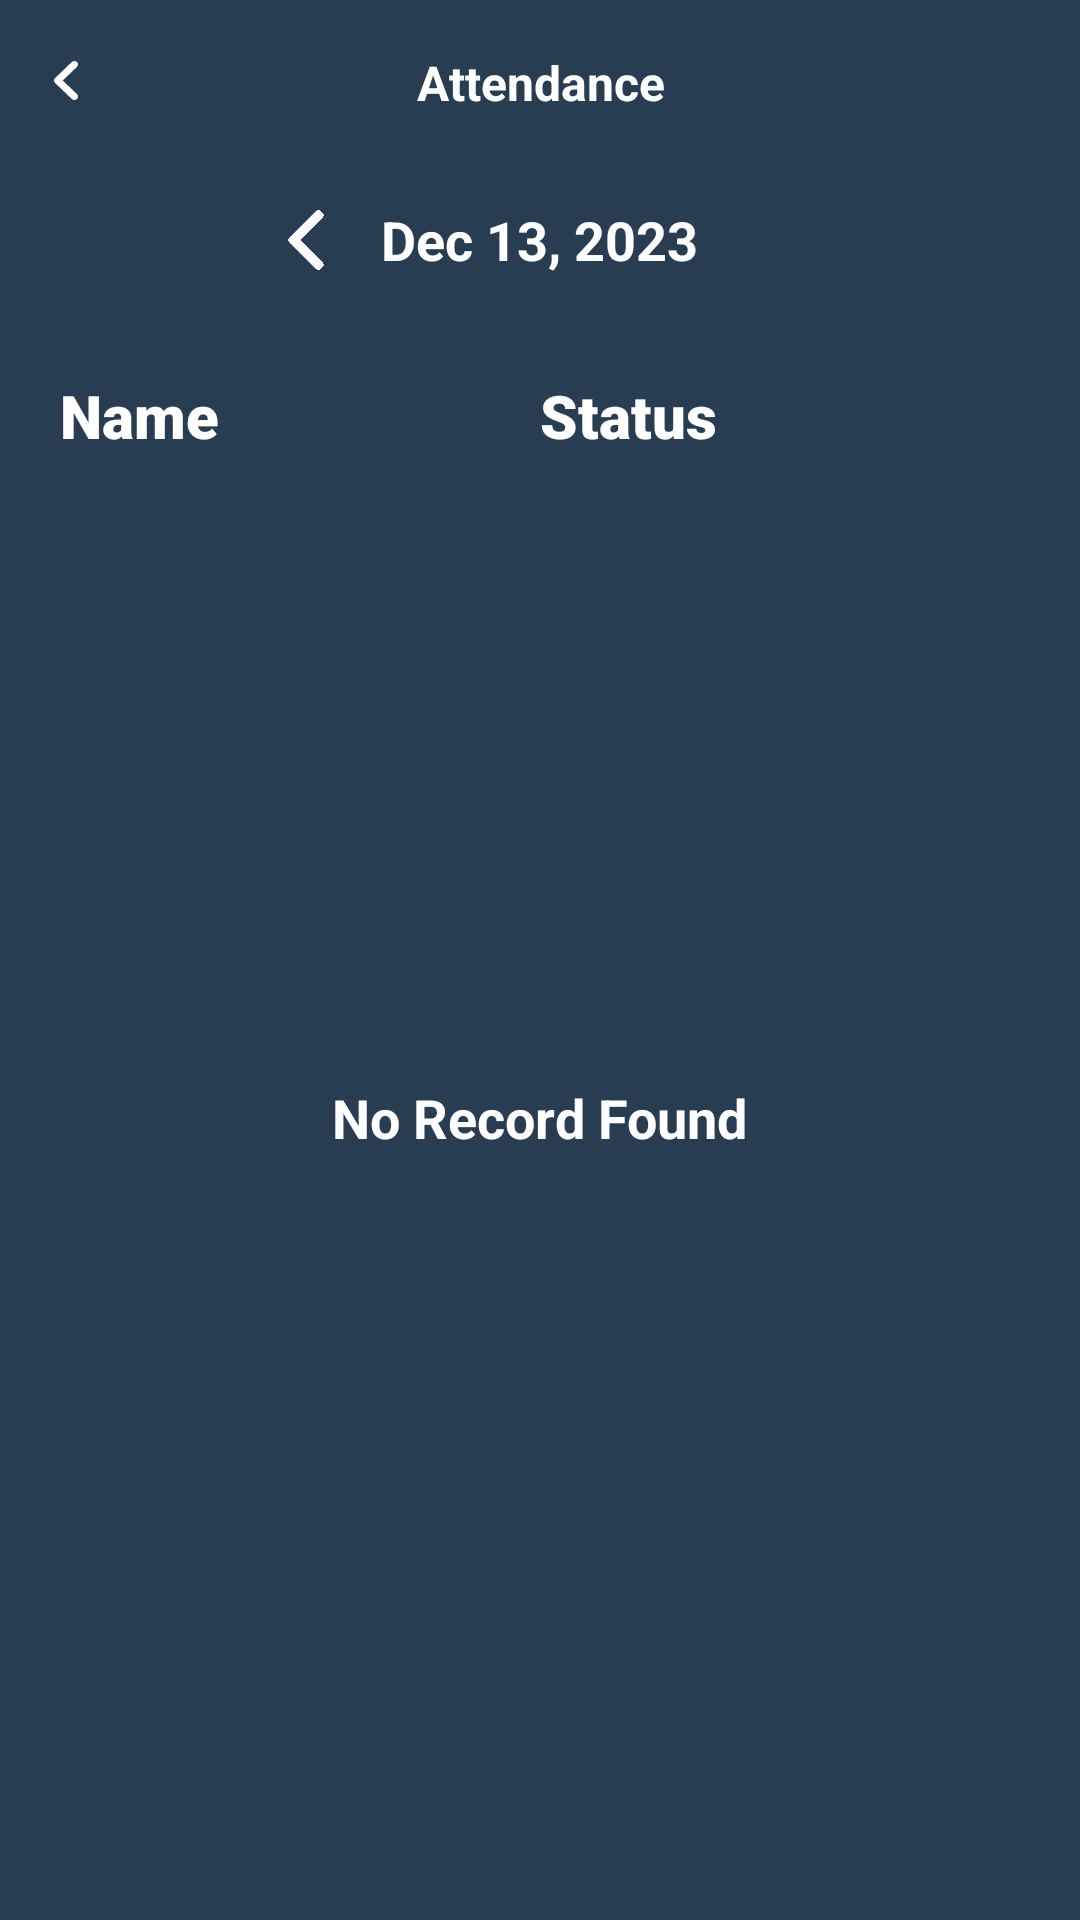

Screen size 1080 × 1920. Icon name, then its box in pixels as box(x1, y1, x2, y2):
back: box(54, 61, 78, 100)
left: box(288, 210, 324, 270)
